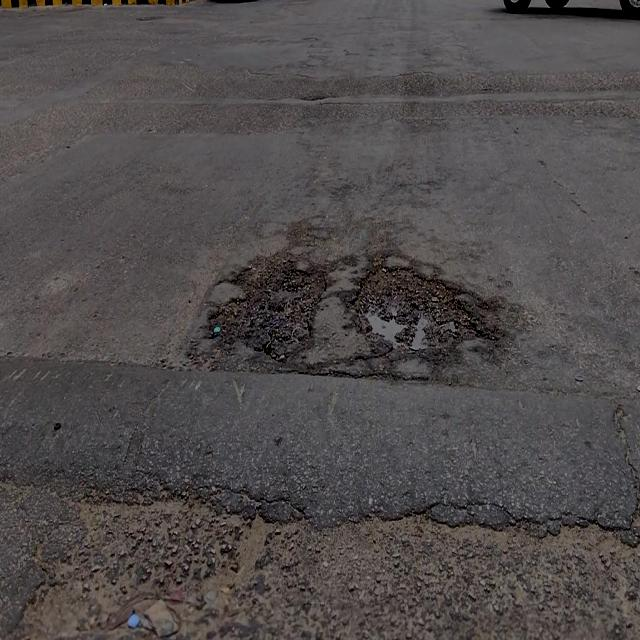Potholes: (207, 250, 331, 363), (352, 257, 486, 356)
